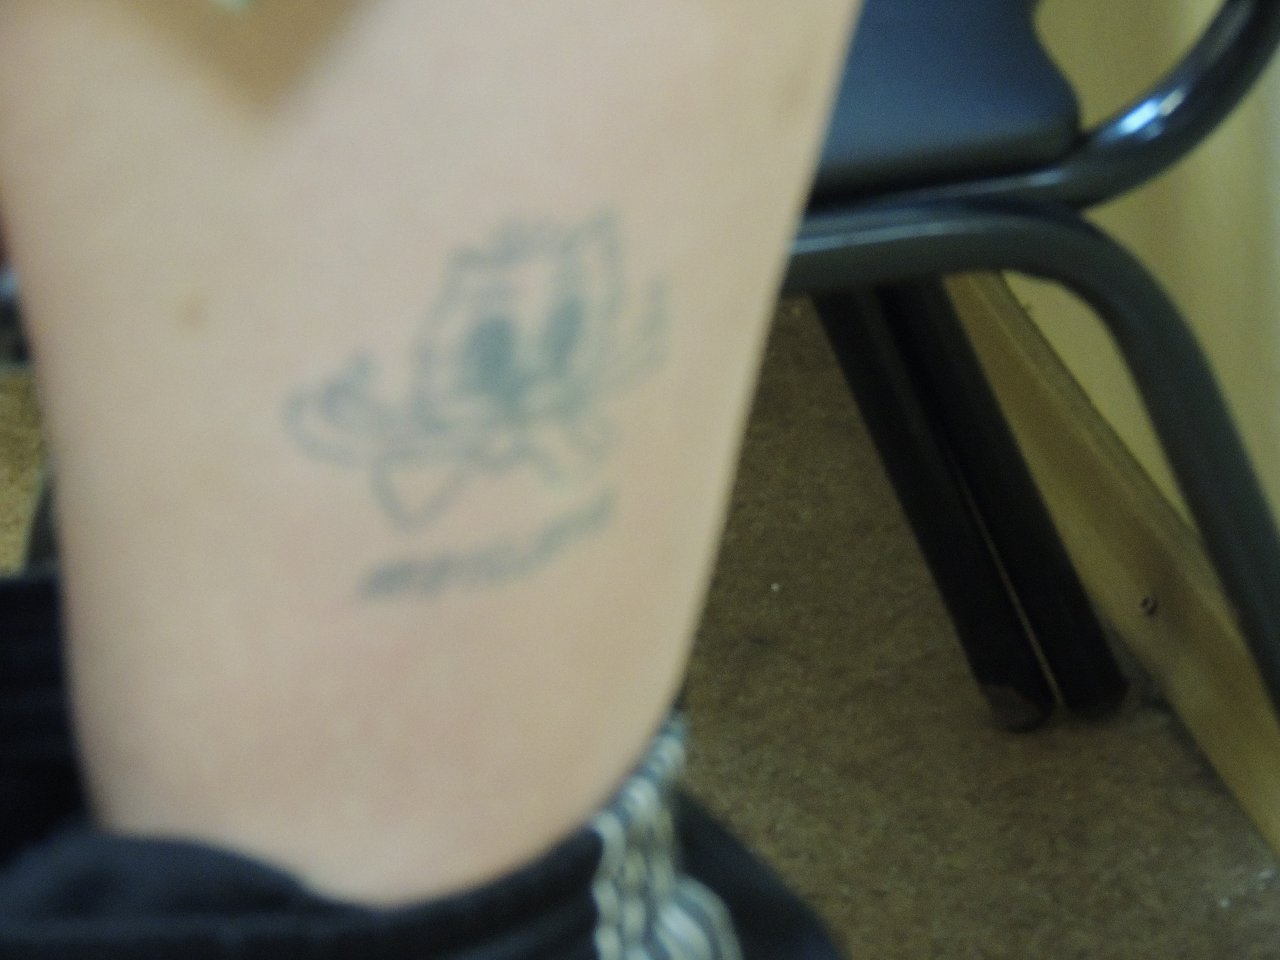tatu8_kot: (292, 175, 677, 601)
